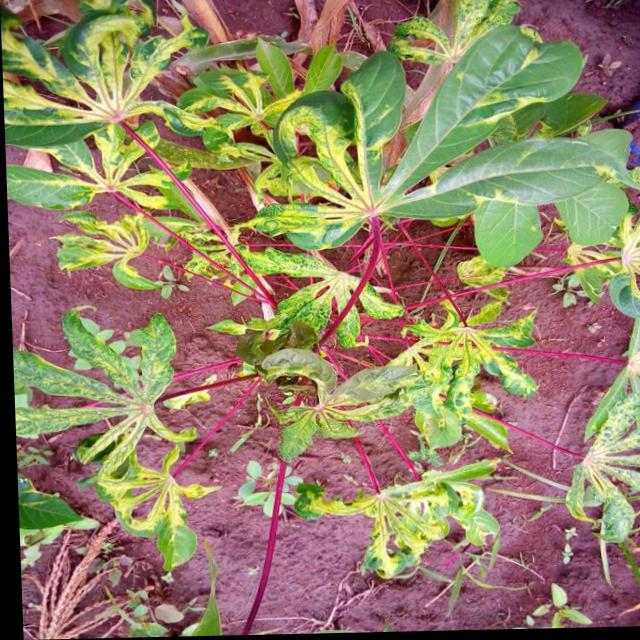Mosaico: (232, 67, 445, 258), (0, 0, 217, 146), (257, 326, 458, 448), (23, 112, 200, 233), (62, 294, 190, 459), (62, 198, 211, 300), (307, 489, 518, 561), (245, 243, 395, 340), (95, 434, 216, 536), (414, 306, 541, 376)
